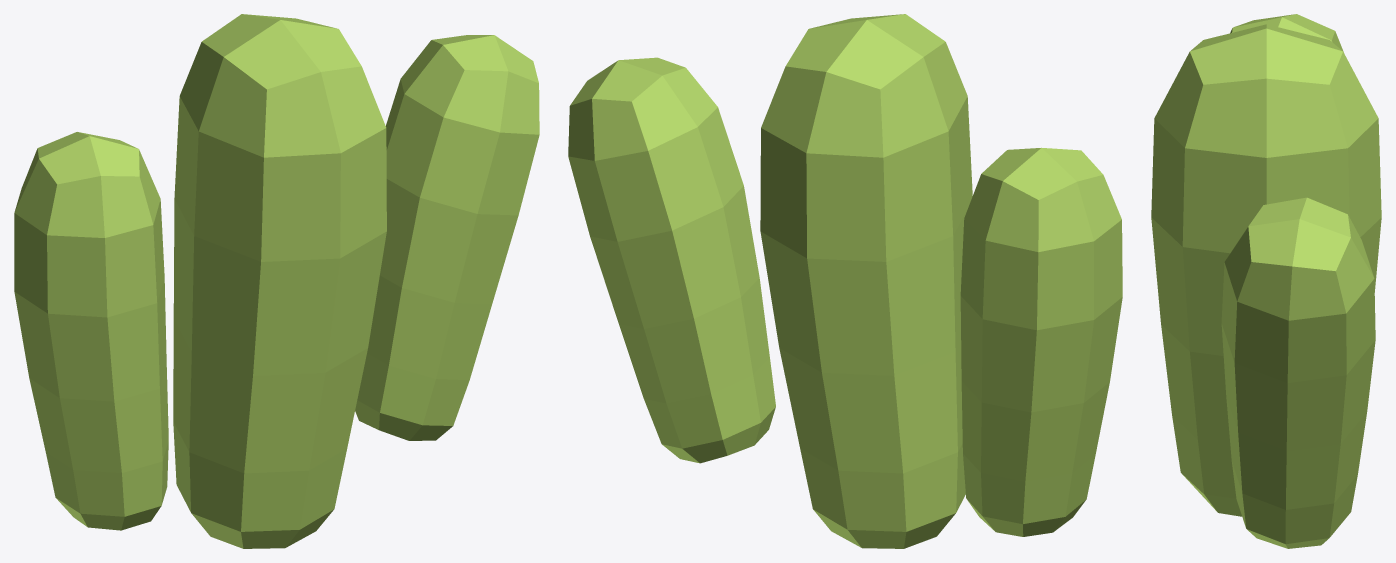
File: grass_stem.fbx
3 renders of one model, left to right at view 1: azimuth 30°, elevation 25°; view 2: azimuth 150°, elevation 25°; view 3: azimuth 270°, elevation 25°, orthographic. The views are drawn at different scales.
Parts seen in each view (by area): view 1: Cube.030, Cube.031, Cube.032; view 2: Cube.030, Cube.032, Cube.031; view 3: Cube.030, Cube.032, Cube.031.
Part boxes in pixels (left/top/right/bottom): Cube.030: left=173, top=14, right=386, bottom=548; Cube.031: left=14, top=132, right=168, bottom=530; Cube.032: left=355, top=35, right=539, bottom=440; Cube.030: left=760, top=14, right=972, bottom=548; Cube.032: left=568, top=57, right=775, bottom=463; Cube.031: left=960, top=147, right=1122, bottom=536; Cube.030: left=1151, top=24, right=1381, bottom=516; Cube.032: left=1221, top=197, right=1375, bottom=548; Cube.031: left=1230, top=14, right=1343, bottom=51.
Size of the model in its own units: 0.3766 by 0.1511 by 0.3557.
